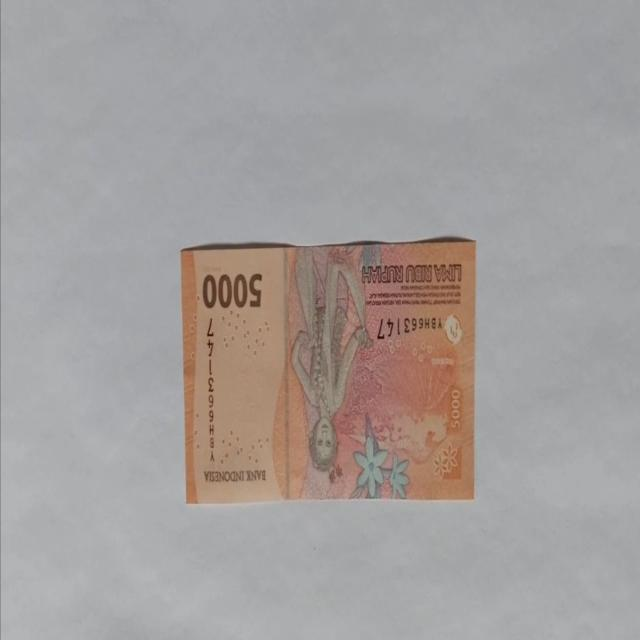lima ribu rupiah: (179, 236, 476, 504)
